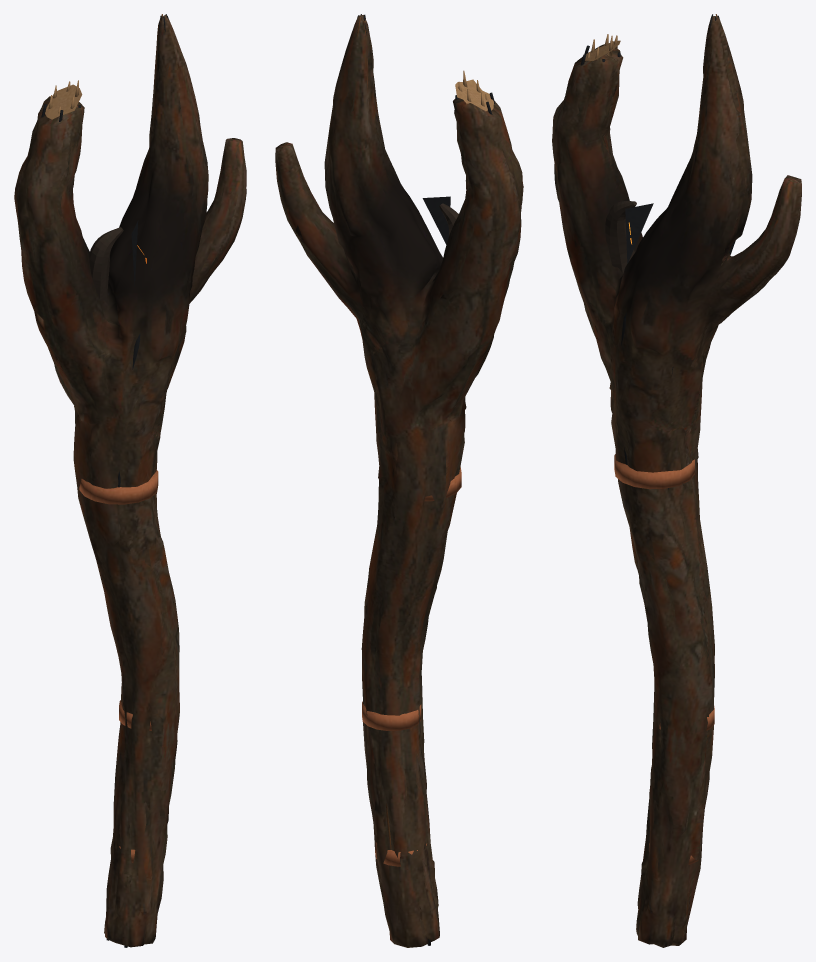
The model's file is cinderwand.glb.
3 views of the same model, side by side, from view 1: azimuth 30°, elevation 25°; view 2: azimuth 150°, elevation 25°; view 3: azimuth 330°, elevation 25° (orthographic). The views are drawn at different scales.
Visible parts, largest first — view 1: cinderwand_Baked.001 export; view 2: cinderwand_Baked.001 export; view 3: cinderwand_Baked.001 export.
Boxes of the visible parts, x1=… form: cinderwand_Baked.001 export: x1=14, y1=14, x2=246, y2=947; cinderwand_Baked.001 export: x1=275, y1=14, x2=523, y2=947; cinderwand_Baked.001 export: x1=552, y1=14, x2=801, y2=947.
Size of the model in its own units: 0.2367 by 0.8828 by 0.0986.
Materials: 2 (1 with a texture image).
